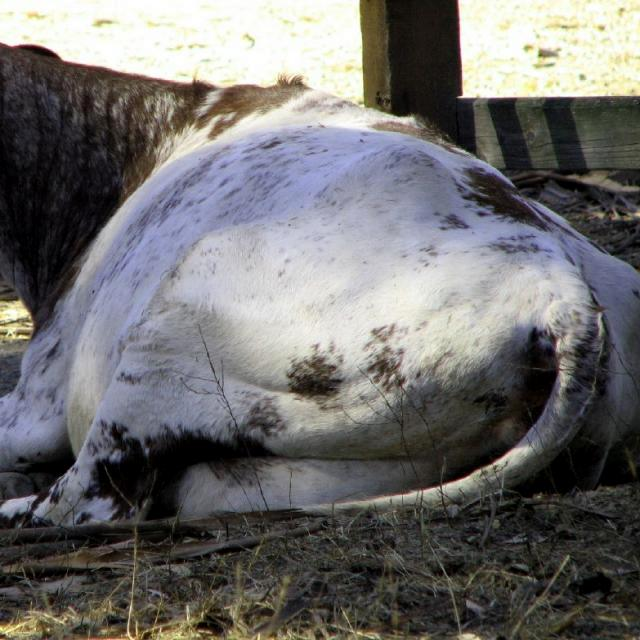COW: (0, 45, 639, 524)
